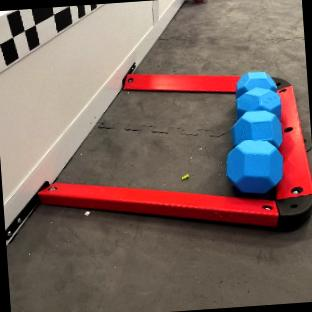V5_BLUE: (226, 140, 282, 192), (231, 110, 282, 144), (236, 86, 280, 116), (236, 71, 274, 93)
